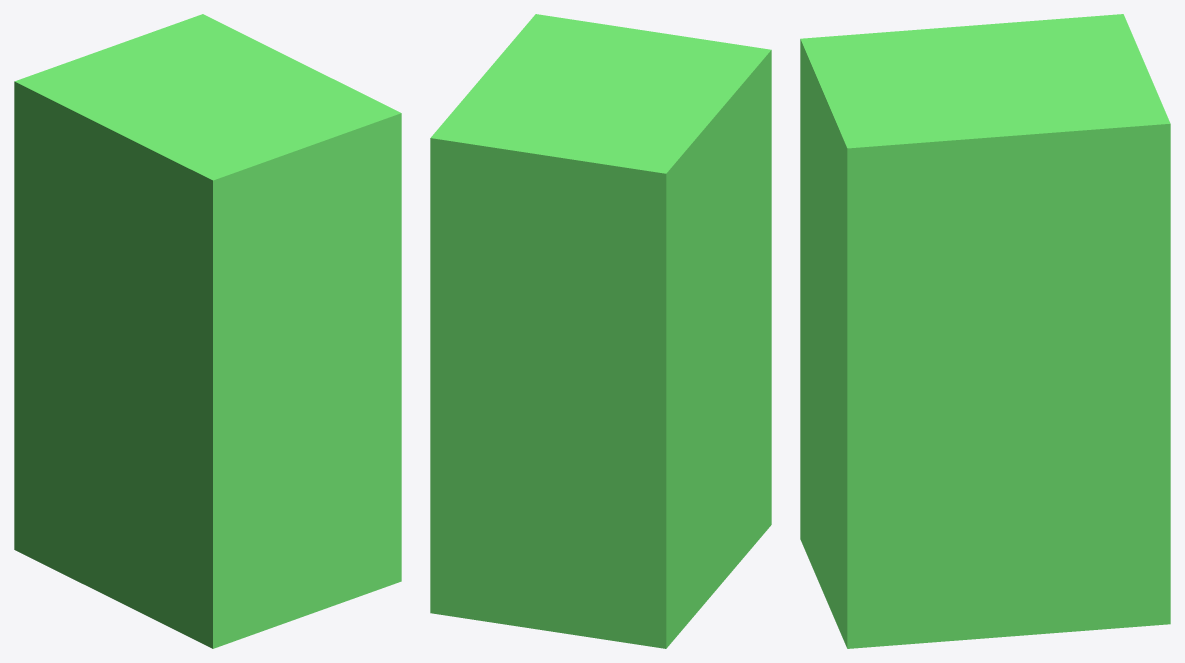
3 renders of one model, left to right at view 1: azimuth 30°, elevation 25°; view 2: azimuth 150°, elevation 25°; view 3: azimuth 270°, elevation 25°, orthographic. The views are drawn at different scales.
Parts seen in each view (by area): view 1: 1042; view 2: 1042; view 3: 1042.
Boxes of the visible parts, x1,y1,x2,y2 form: 1042: [14, 14, 401, 648]; 1042: [430, 14, 771, 648]; 1042: [800, 14, 1170, 648].
Size of the model in its own units: 3.46 by 6 by 4.02.
